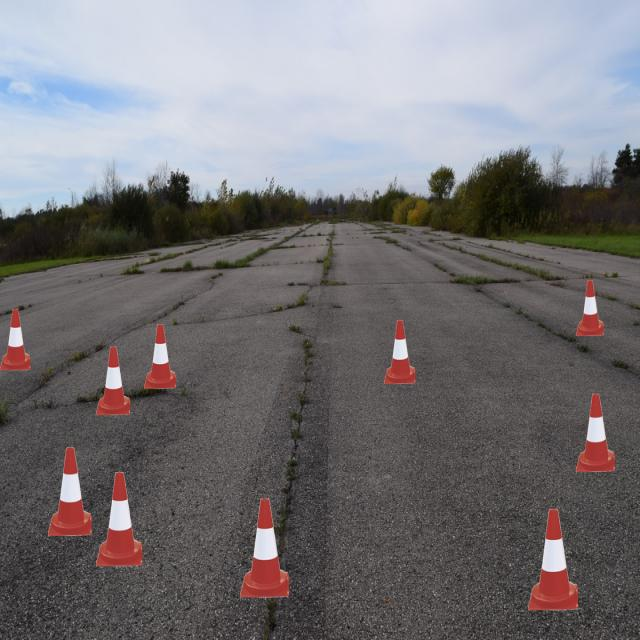orange_cone: (528, 509, 578, 610), (240, 498, 289, 598), (96, 472, 142, 566), (48, 447, 92, 536), (576, 394, 615, 472), (96, 346, 130, 416), (144, 324, 176, 389), (384, 320, 415, 384), (0, 308, 30, 370), (576, 280, 604, 336)
